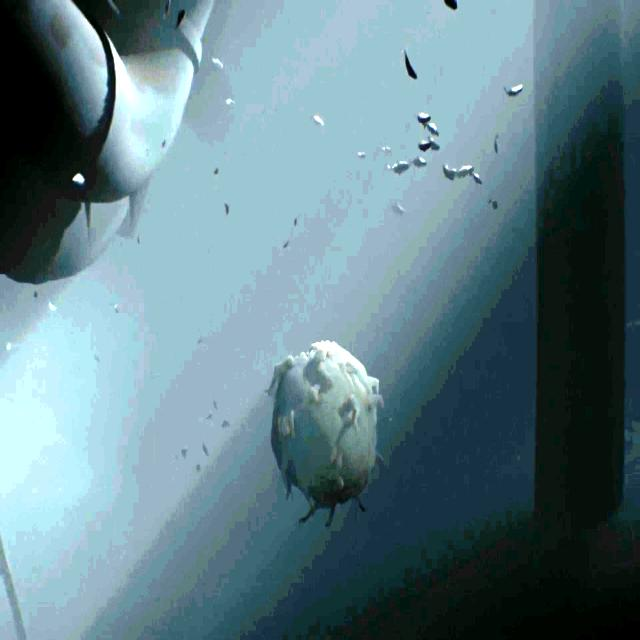blob: (268, 341, 389, 529)
